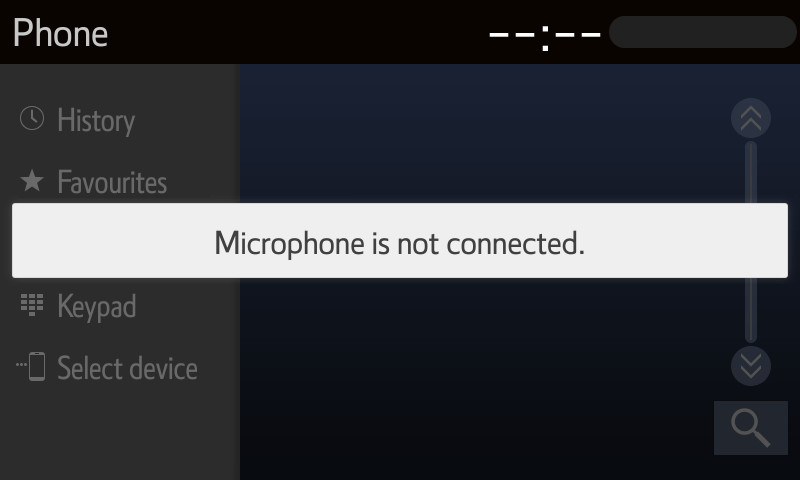untouchPart: (13, 342, 200, 389), (610, 13, 798, 50), (477, 9, 606, 55), (17, 99, 137, 143), (14, 163, 173, 195), (16, 291, 141, 326), (714, 403, 789, 461), (7, 12, 107, 51), (732, 97, 770, 138), (733, 349, 770, 385)
